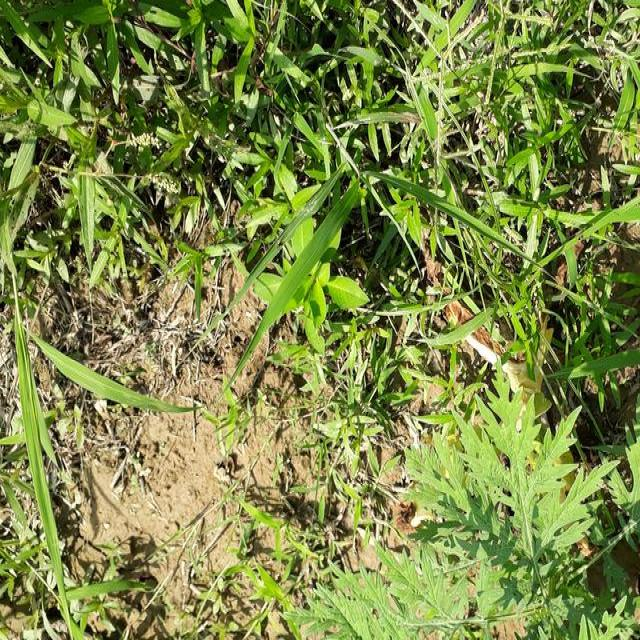weed: (6, 0, 640, 308)
